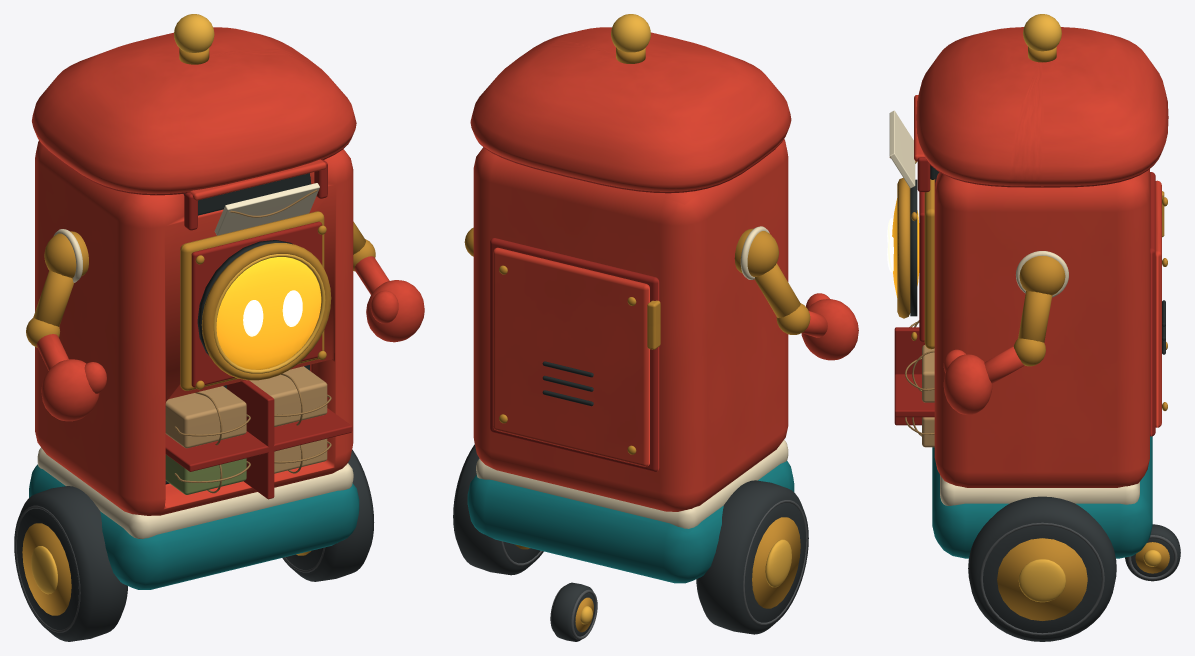
3 renders of one model, left to right at view 1: azimuth 30°, elevation 25°; view 2: azimuth 150°, elevation 25°; view 3: azimuth 270°, elevation 25°, orthographic. The views are drawn at different scales.
Visible parts, largest first — view 1: body__robot_red, body__robot_teal, wheel_l, body__robot_red_dark, head__robot_amber, body__robot_parcel, head__robot_brass, body__robot_cream, right_arm__robot_red, head__robot_red_dark, left_arm__robot_red, wheel_r (+10 smaller); view 2: body__robot_red, body__robot_teal, wheel_l, body__robot_red_dark, body__robot_cream, right_arm__robot_red, wheel_r, wheel_l_hub, right_arm__robot_brass, wheel_c, body__robot_brass, body__robot_gold (+1 smaller); view 3: body__robot_red, wheel_r, body__robot_teal, body__robot_red_dark, left_arm__robot_red, wheel_r_hub, head__robot_brass, body__robot_cream, left_arm__robot_brass, wheel_c, body__robot_paper, body__robot_gold (+7 smaller).
Part boxes in pixels (x1,y1,x2,y2): body__robot_red: [32, 27, 356, 515]; body__robot_teal: [29, 464, 359, 589]; wheel_l: [14, 486, 127, 641]; body__robot_red_dark: [38, 138, 352, 499]; head__robot_amber: [216, 257, 321, 369]; body__robot_parcel: [165, 366, 327, 473]; head__robot_brass: [180, 211, 331, 390]; body__robot_cream: [37, 447, 353, 539]; right_arm__robot_red: [33, 270, 106, 421]; head__robot_red_dark: [191, 221, 322, 387]; left_arm__robot_red: [353, 221, 424, 342]; wheel_r: [282, 449, 374, 581]; body__robot_red: [470, 27, 791, 511]; body__robot_teal: [467, 461, 794, 583]; wheel_l: [696, 480, 808, 634]; body__robot_red_dark: [475, 136, 785, 471]; body__robot_cream: [476, 440, 788, 528]; right_arm__robot_red: [755, 263, 858, 360]; wheel_r: [453, 444, 543, 575]; wheel_l_hub: [752, 517, 800, 608]; right_arm__robot_brass: [734, 228, 810, 334]; wheel_c: [550, 582, 597, 641]; body__robot_brass: [499, 47, 660, 454]; body__robot_gold: [611, 14, 650, 52]; body__robot_red: [914, 27, 1168, 487]; wheel_r: [968, 496, 1116, 641]; body__robot_teal: [932, 436, 1152, 558]; body__robot_red_dark: [894, 157, 1158, 436]; left_arm__robot_red: [943, 291, 1052, 414]; wheel_r_hub: [997, 538, 1087, 620]; head__robot_brass: [897, 161, 934, 349]; body__robot_cream: [940, 475, 1139, 505]; left_arm__robot_brass: [1013, 256, 1065, 366]; wheel_c: [1125, 524, 1180, 581]; body__robot_paper: [889, 110, 915, 188]; body__robot_gold: [1023, 14, 1061, 51].
Bounding box in the file's own units: 0.814 × 1.21 × 0.573.
Materials: 15 (3 with a texture image).
